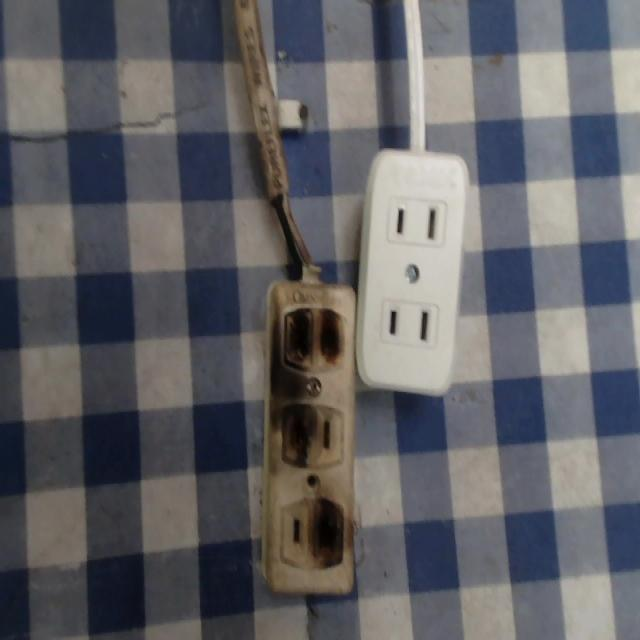-: (269, 302, 354, 374), (311, 488, 353, 579), (271, 403, 320, 472)
